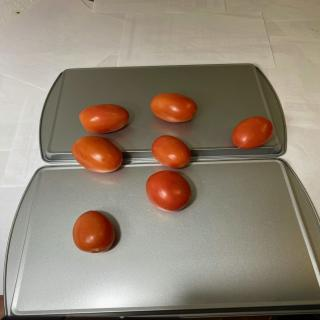Tomato: (146, 170, 192, 212), (71, 136, 123, 173), (72, 210, 116, 253), (79, 104, 129, 134), (232, 116, 274, 150), (150, 92, 197, 122), (152, 135, 192, 169)
